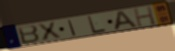A: (113, 10, 140, 32)
B: (17, 24, 42, 45)
H: (132, 5, 158, 28)
I: (67, 19, 78, 37)
L: (87, 15, 107, 34)
X: (35, 21, 63, 42)
